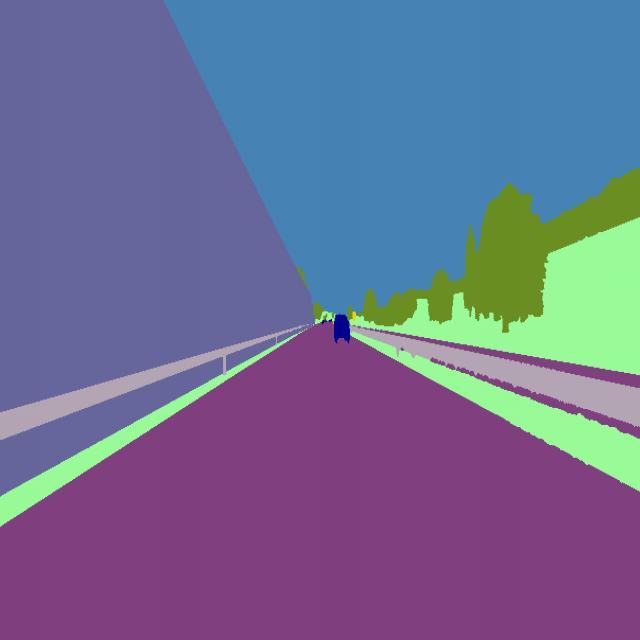safe: (329, 309, 354, 345)
